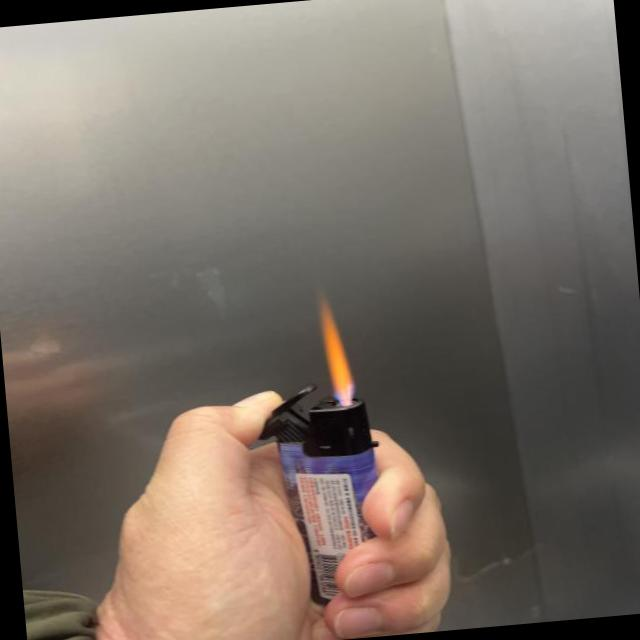Fire: (318, 296, 354, 402)
